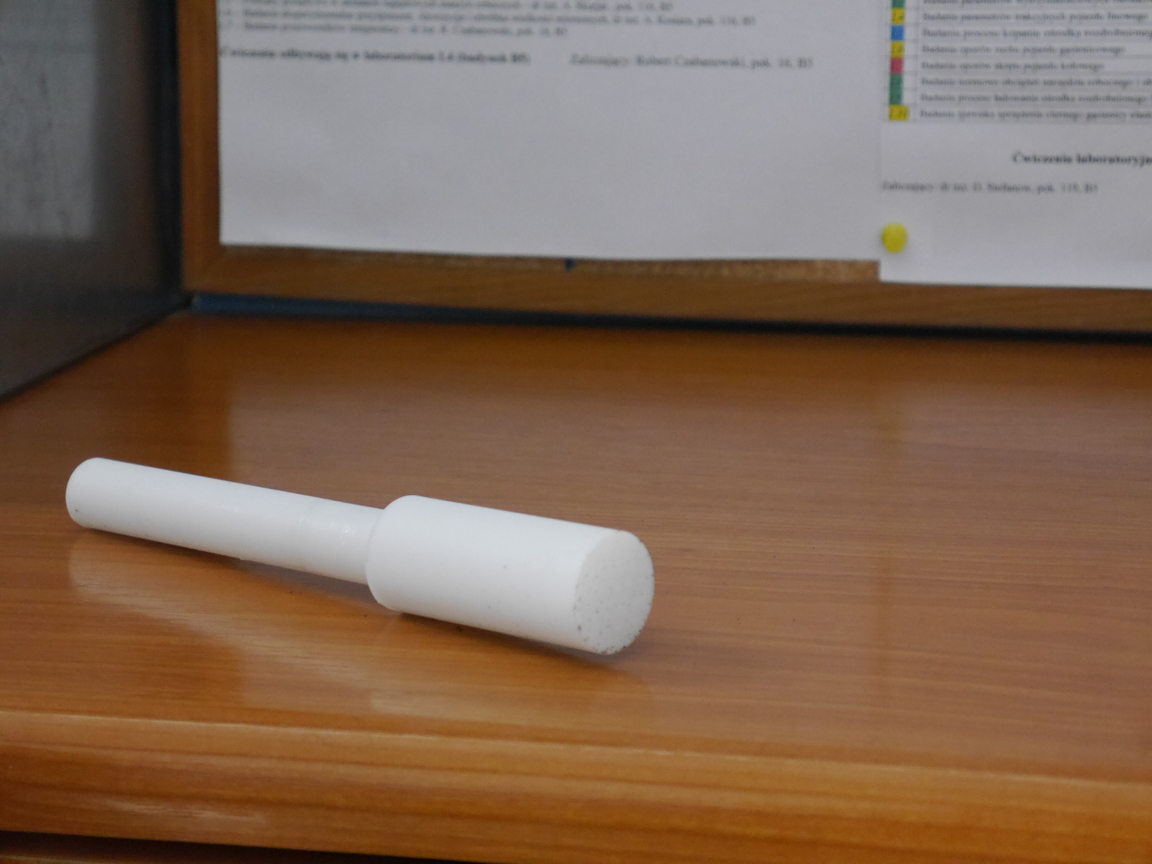cargo_g: (65, 457, 652, 659)
